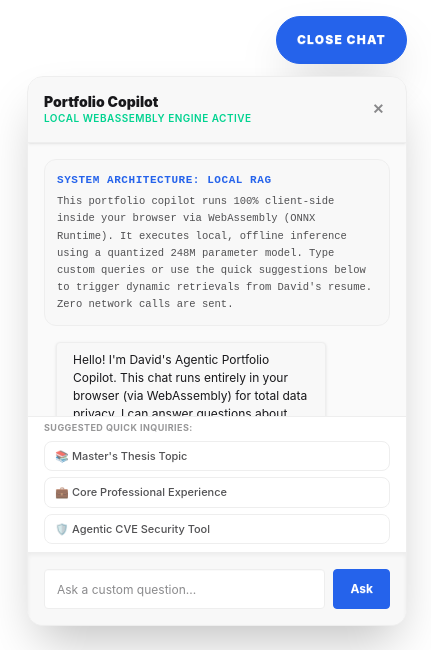
Test: CopilotWidget UI Component › displays suggested quick inquiries and appends answers when clicked
// Click the thesis suggestion pill
Step 1. Click the button "📚 Master's Thesis Topic" → (121, 456), box [44, 440, 390, 471]
Wait 2000 ms
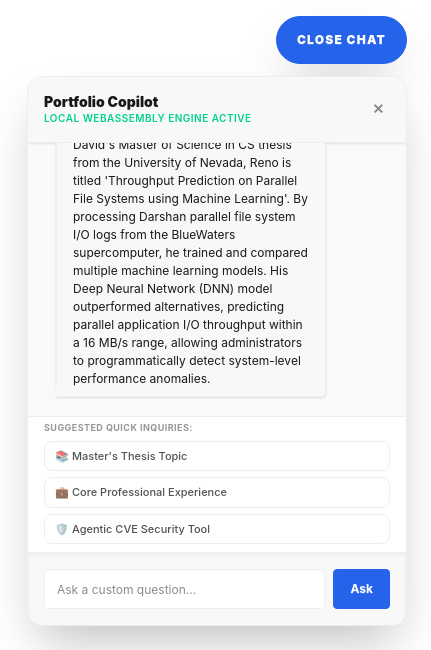
expect the text "Throughput Prediction on Parallel File Systems using Machine Learning" is shown: met, box [73, 142, 308, 386]
